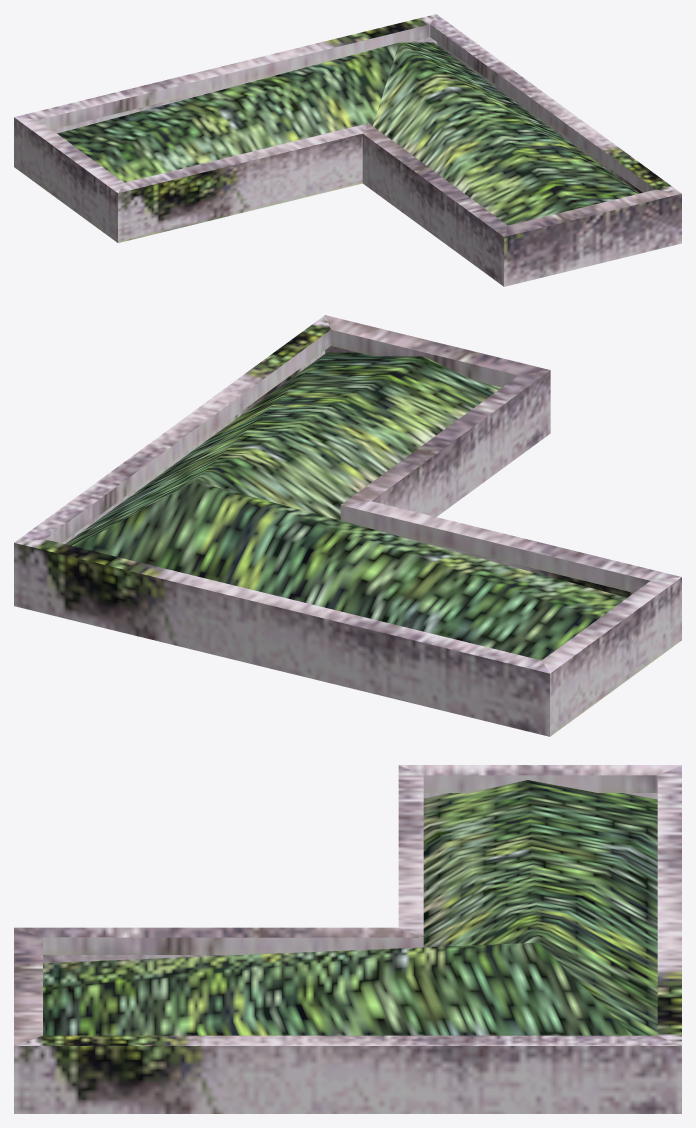
The model's file is Environment - Vegetation - Plantr 01 - PMPlantr01.glb.
3 renders of one model, top to bottom at view 1: azimuth 30°, elevation 25°; view 2: azimuth 150°, elevation 25°; view 3: azimuth 270°, elevation 25°, orthographic. The views are drawn at different scales.
Parts seen in each view (by area): view 1: PMPLANTR01; view 2: PMPLANTR01; view 3: PMPLANTR01.
Boxes of the visible parts, <box> form: PMPLANTR01: <box>14,14,681,286</box>; PMPLANTR01: <box>14,315,681,736</box>; PMPLANTR01: <box>14,765,681,1113</box>.
Bounding box in the file's own units: 34.54 × 6.39 × 34.73.
Materials: 1 (1 with a texture image).
